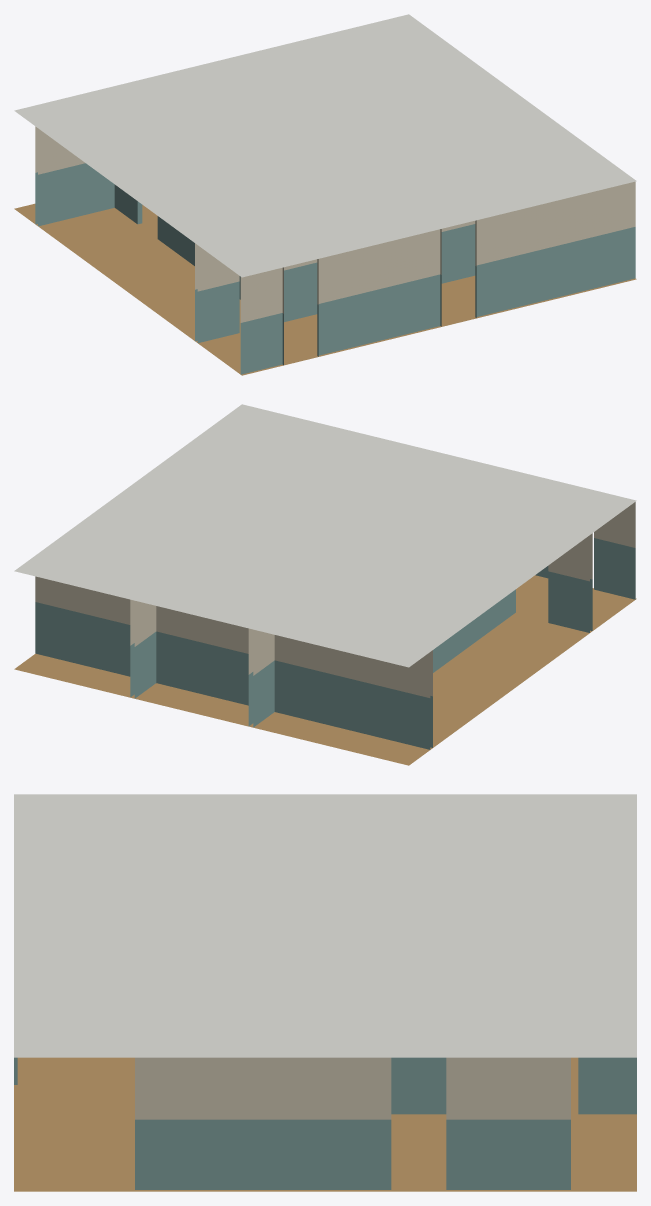
File: chunk_2_3.glb
3 views of the same model, one above another, from view 1: azimuth 30°, elevation 25°; view 2: azimuth 150°, elevation 25°; view 3: azimuth 270°, elevation 25° (orthographic). The views are drawn at different scales.
Parts seen in each view (by area): view 1: chunk_2_3; view 2: chunk_2_3; view 3: chunk_2_3.
Part boxes in pixels (<box>): chunk_2_3: <box>14,14,636,375</box>; chunk_2_3: <box>14,404,636,765</box>; chunk_2_3: <box>14,794,636,1191</box>.
Bounding box in the file's own units: 12 × 2.85 × 12.
